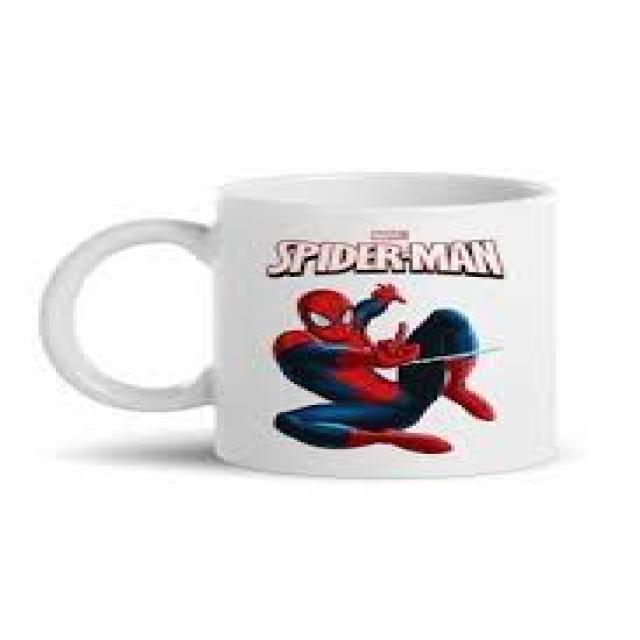taza: (36, 172, 560, 476)
